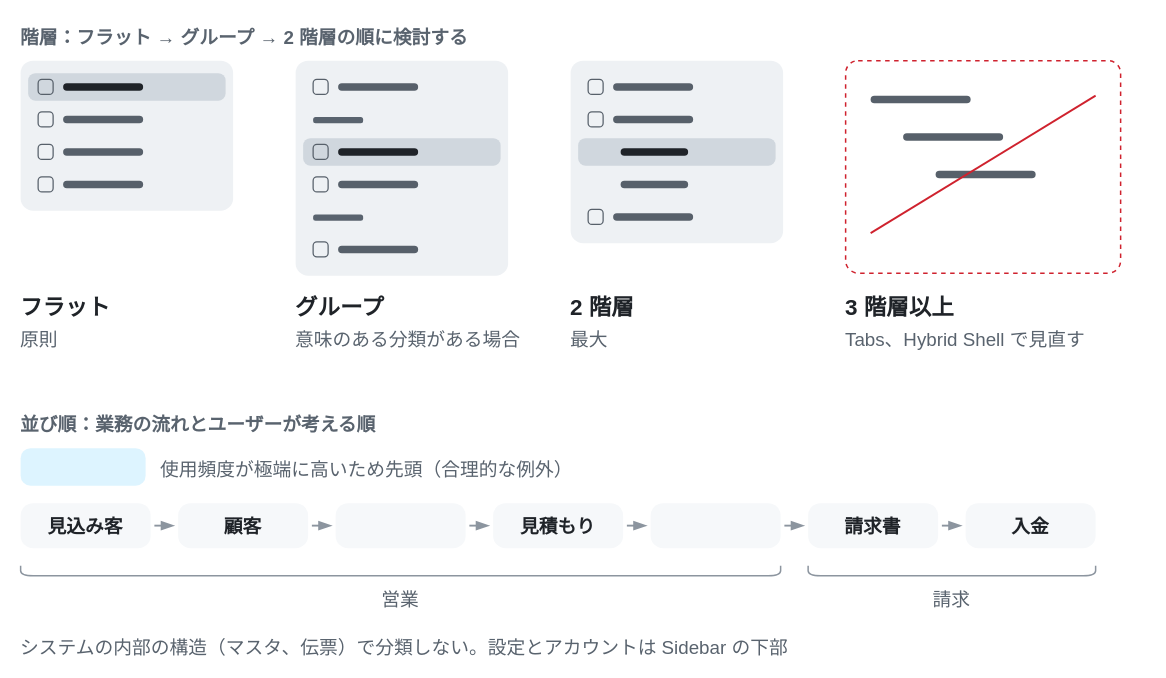
This 1166x678 diagram has some shape labels left out. Each missing label, with the box of its shape:
ホーム: (20, 448, 145, 485)
商談: (335, 502, 465, 548)
契約: (650, 502, 780, 548)
